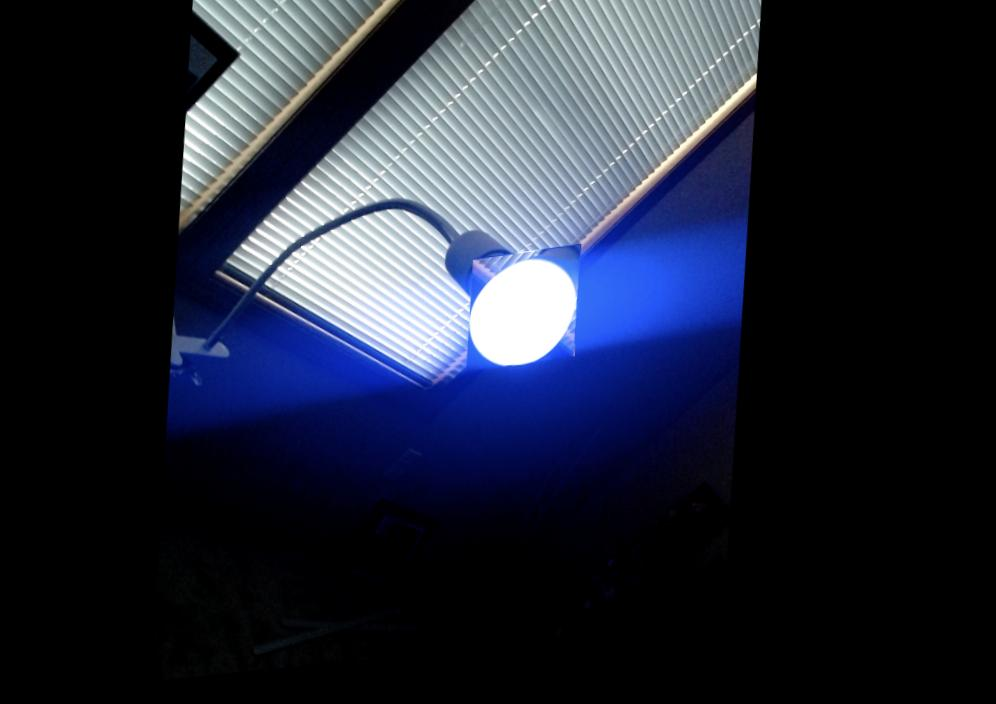TubeLight: (469, 257, 590, 383)
